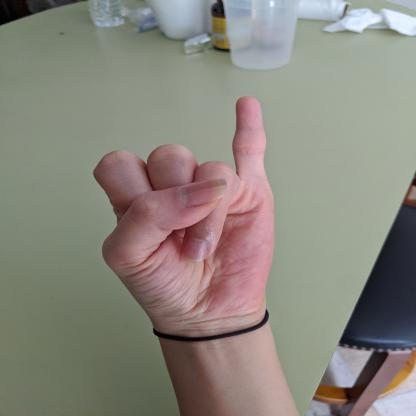I: (88, 92, 282, 326)
